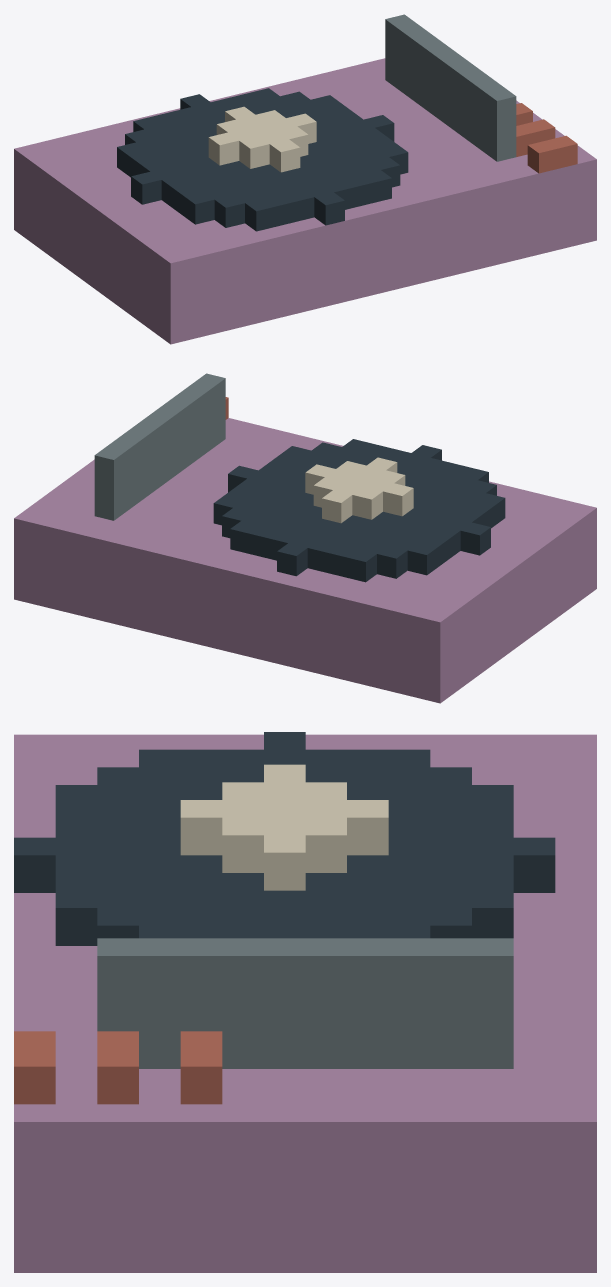
The model's file is events-02.glb.
3 renders of one model, top to bottom at view 1: azimuth 30°, elevation 25°; view 2: azimuth 150°, elevation 25°; view 3: azimuth 270°, elevation 25°, orthographic. The views are drawn at different scales.
Parts seen in each view (by area): view 1: DJ turntable; view 2: DJ turntable; view 3: DJ turntable.
Part boxes in pixels (left/top/right/bottom): DJ turntable: left=14, top=14, right=596, bottom=344; DJ turntable: left=14, top=373, right=596, bottom=703; DJ turntable: left=14, top=732, right=596, bottom=1272.
Bounding box in the file's own units: 1.76 × 0.56 × 1.12.
